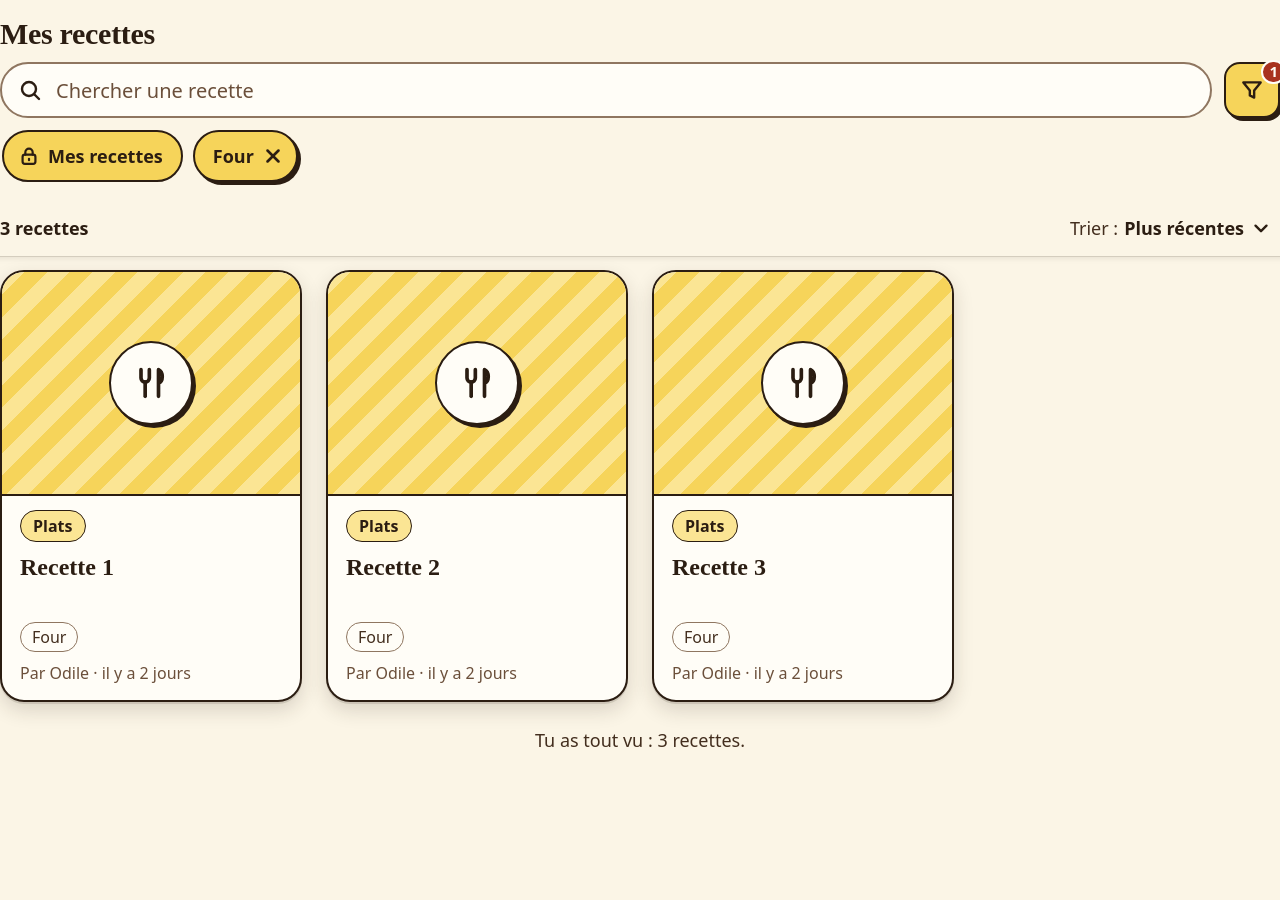
MyRecipesScreen › does not count the lock among the filters, and has no author section in the sheet
Expected: the link "Recette 1" is shown, 0,270 -> 302,702
Click the button named "Filtres, 1 actif".
click(1252, 90)  # box 1224,62 -> 1279,118
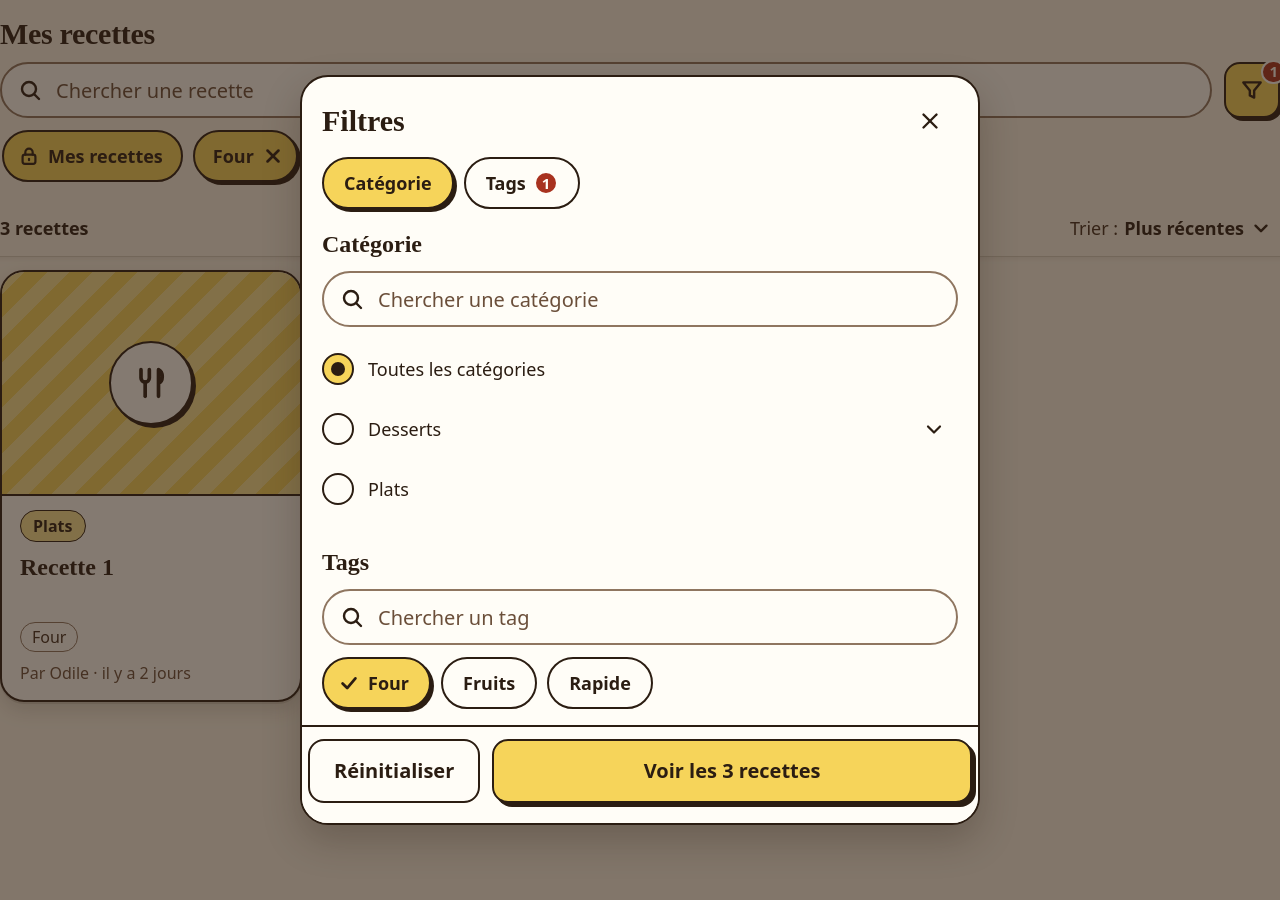
Result: the button "Four" is shown at 322,657 -> 431,709
